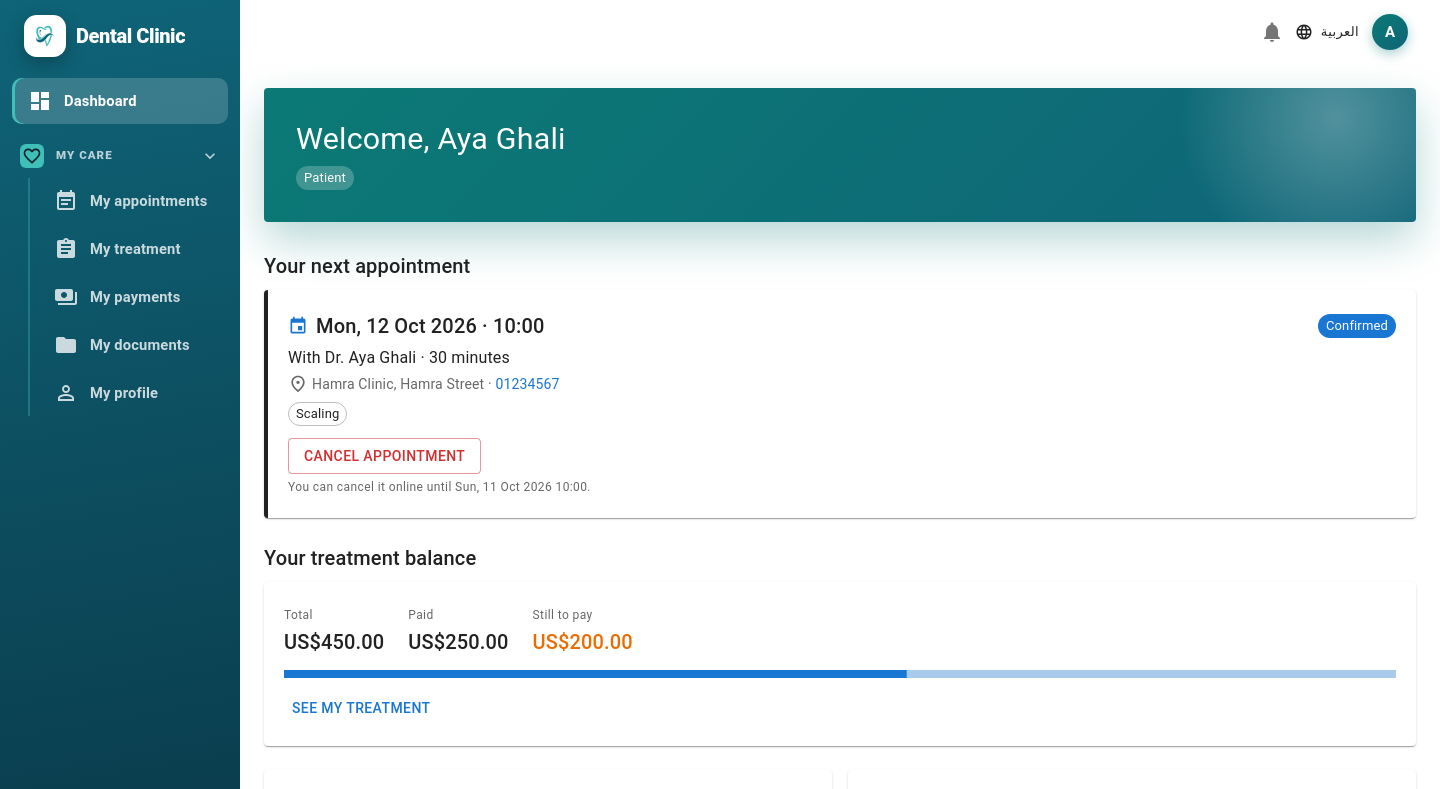
Test: the patient’s home › cancels the appointment after asking, and tells the clinic
The width and height of the screenshot is (1440, 789).
Click the button "Cancel appointment".
click(385, 456)  # box [288,438,481,474]
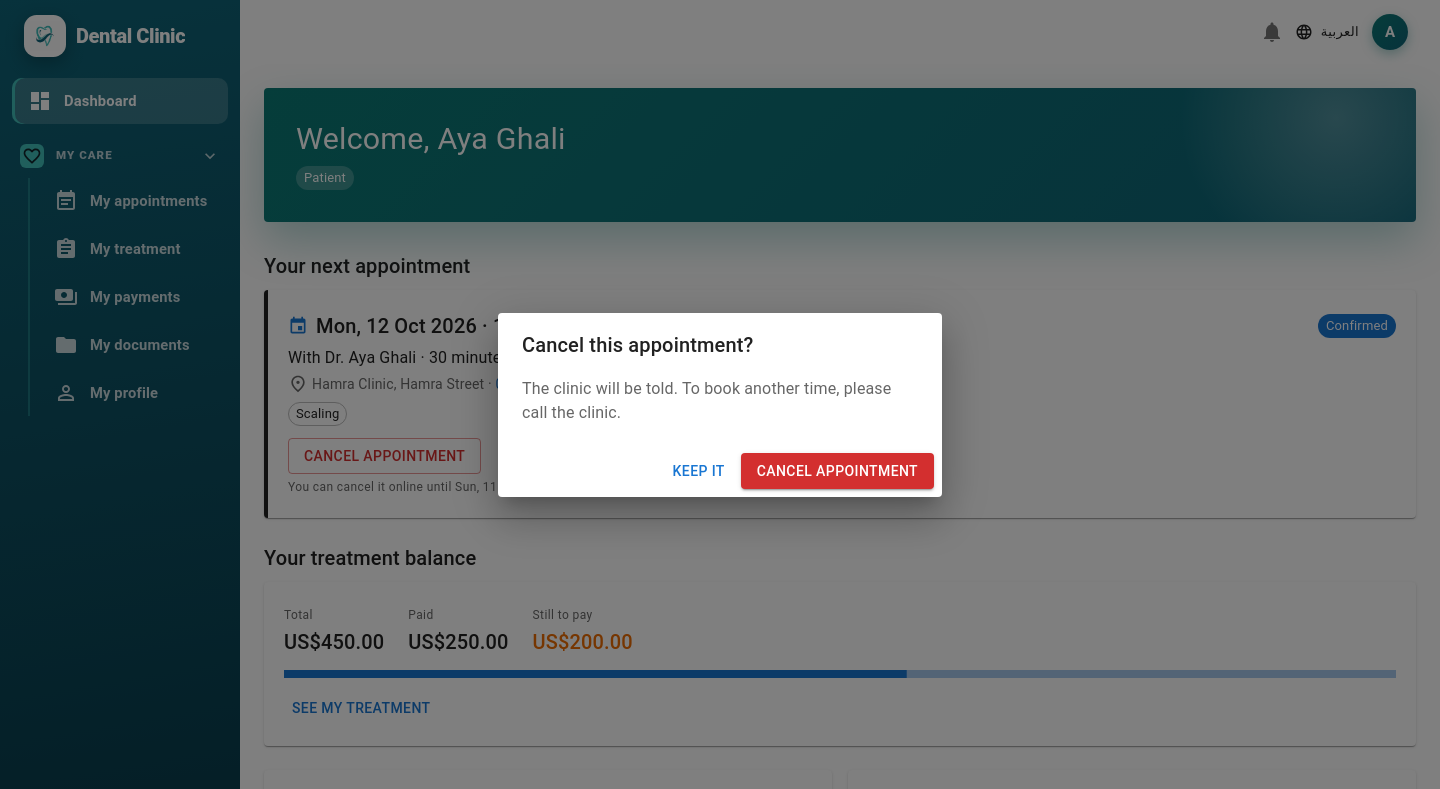
Result: the text "The clinic will be told" is shown at [522,379,891,422]
Click the button "Keep it".
click(699, 471)  # box [665,453,733,489]
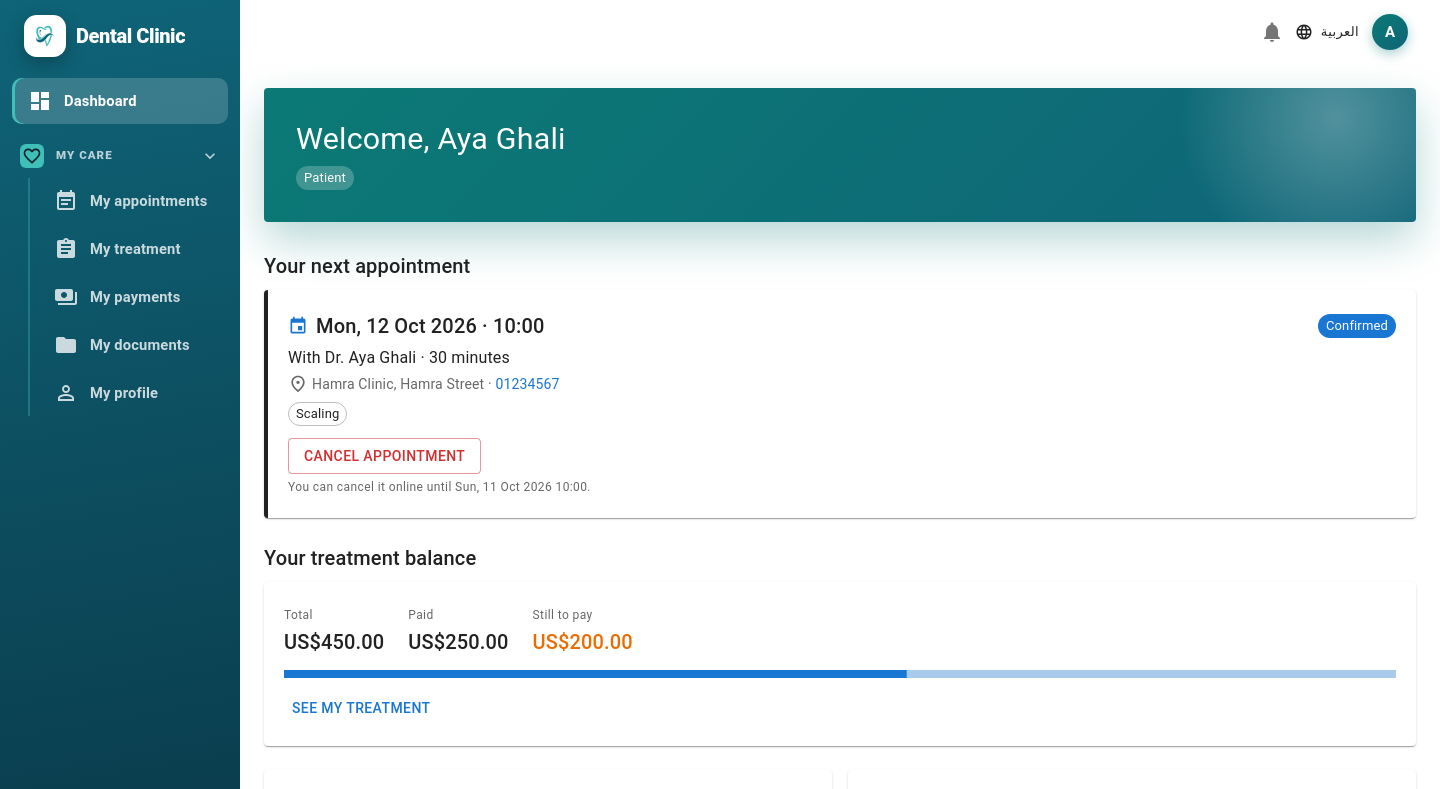
Result: the dialog is gone
Click the button "Cancel appointment".
click(385, 456)  # box [288,438,481,474]
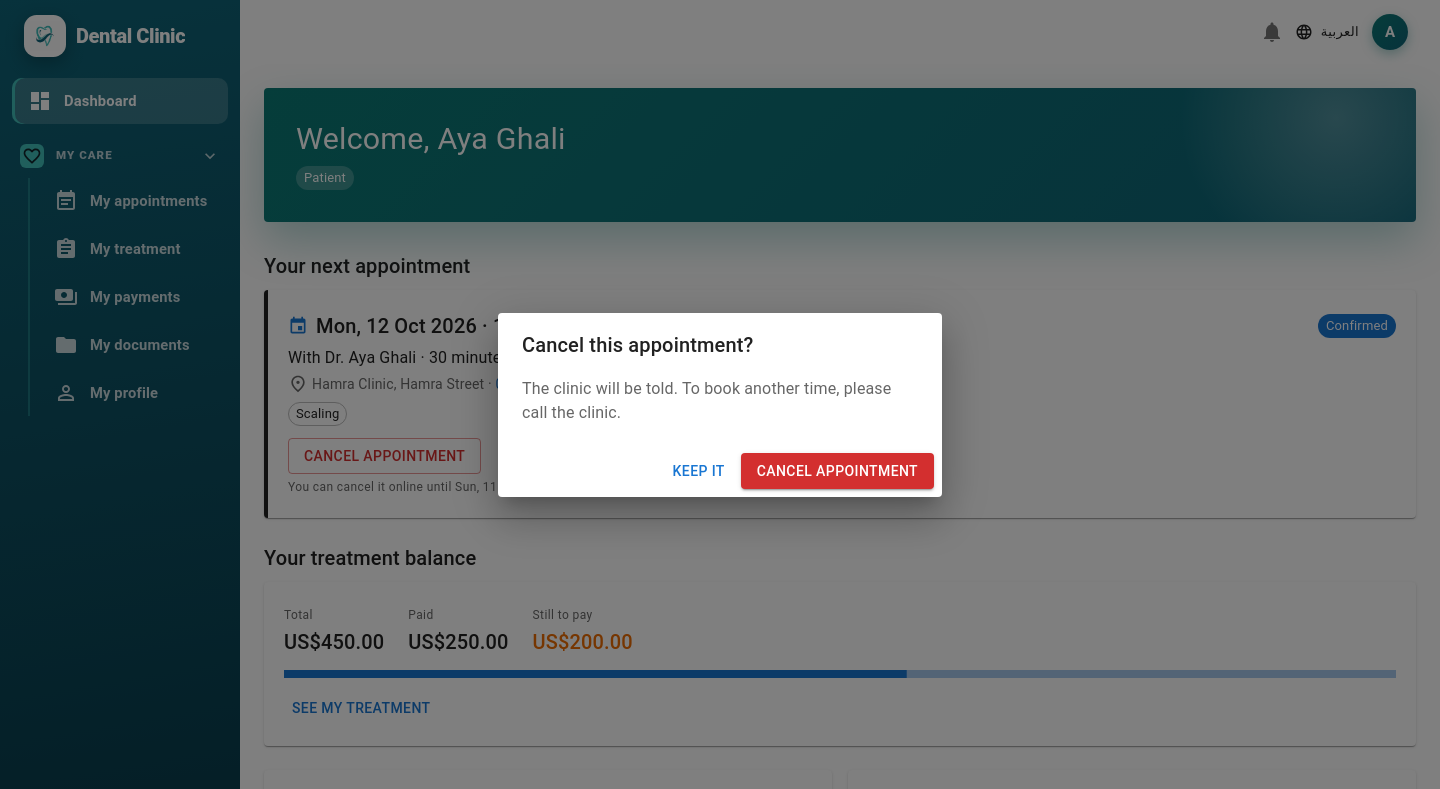
Click the button "Cancel appointment".
click(837, 471)  # box [741,453,934,489]
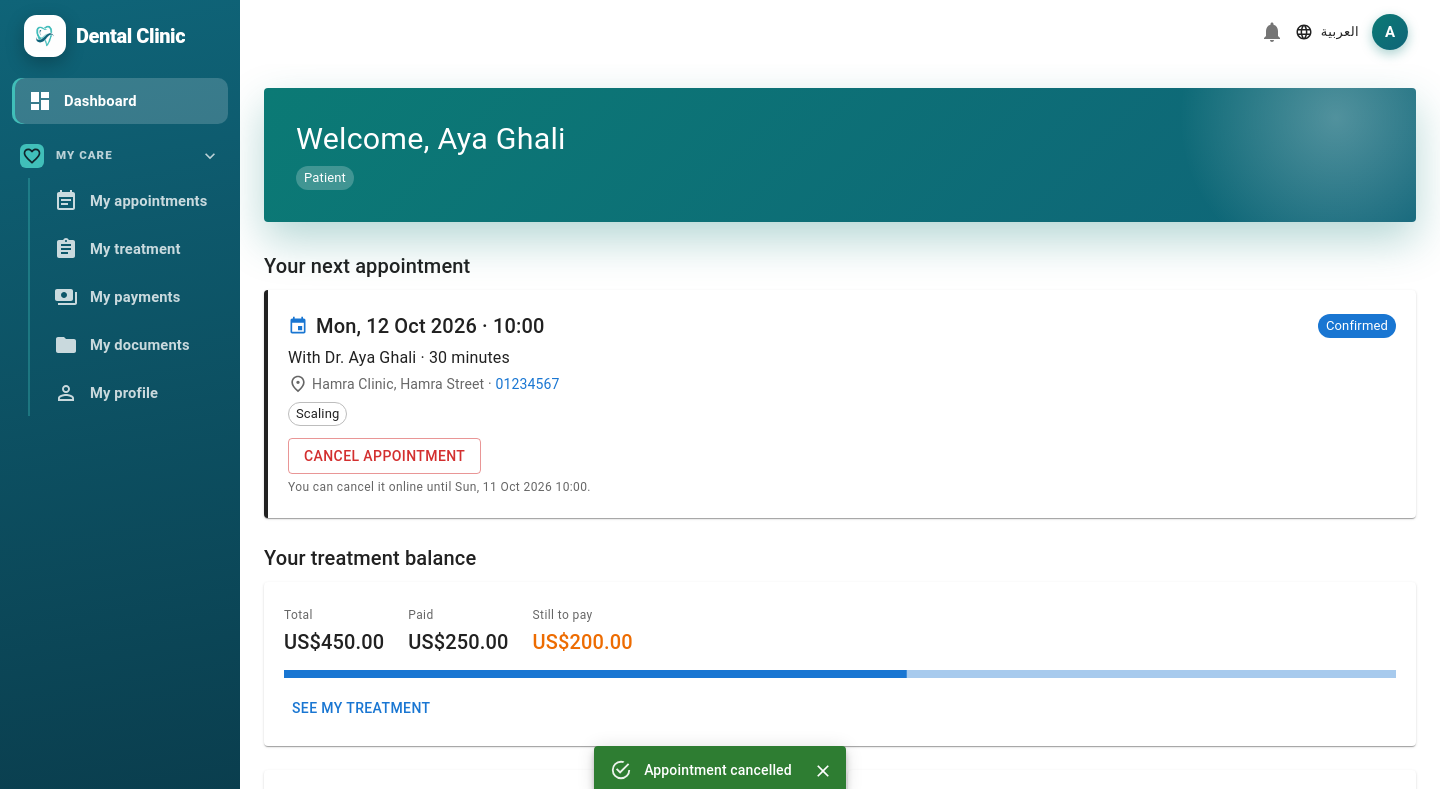
Result: the text "Appointment cancelled" is shown at [644,762,792,778]
